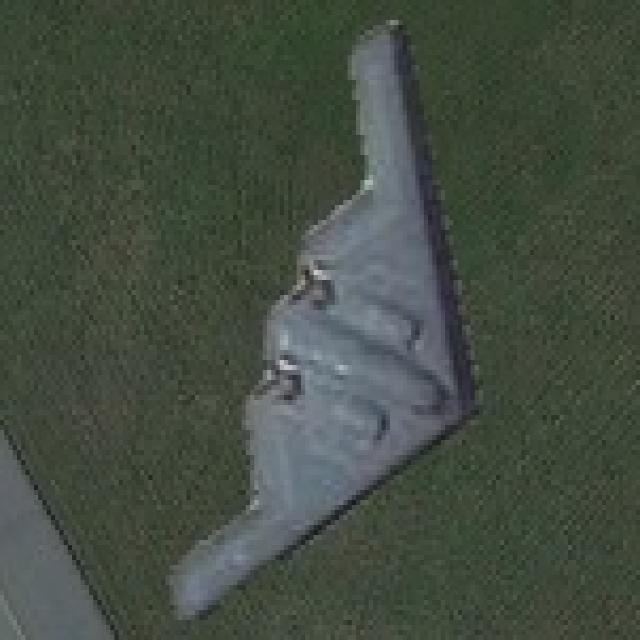B-2_TopDown: (152, 10, 488, 620)
